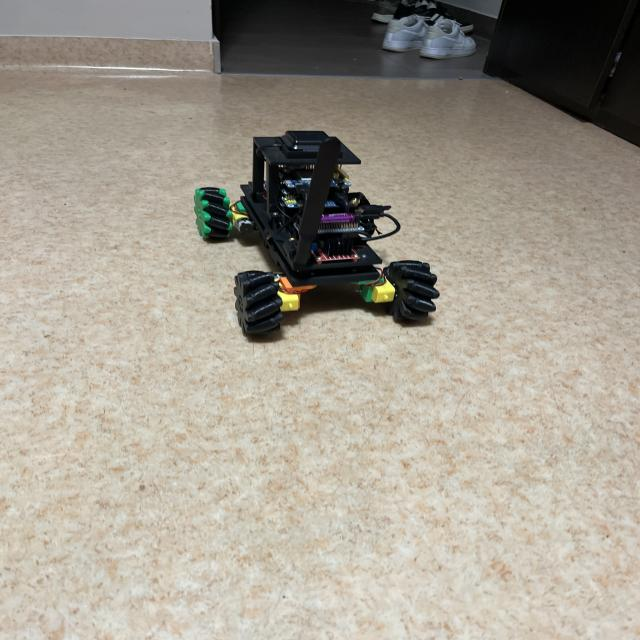robot: (194, 131, 439, 335)
